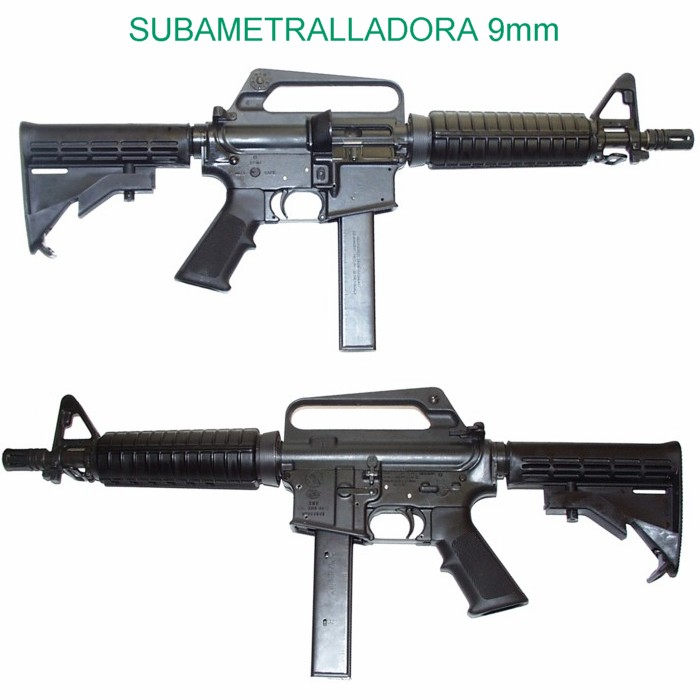rifle: (7, 68, 700, 360), (1, 378, 691, 667)
